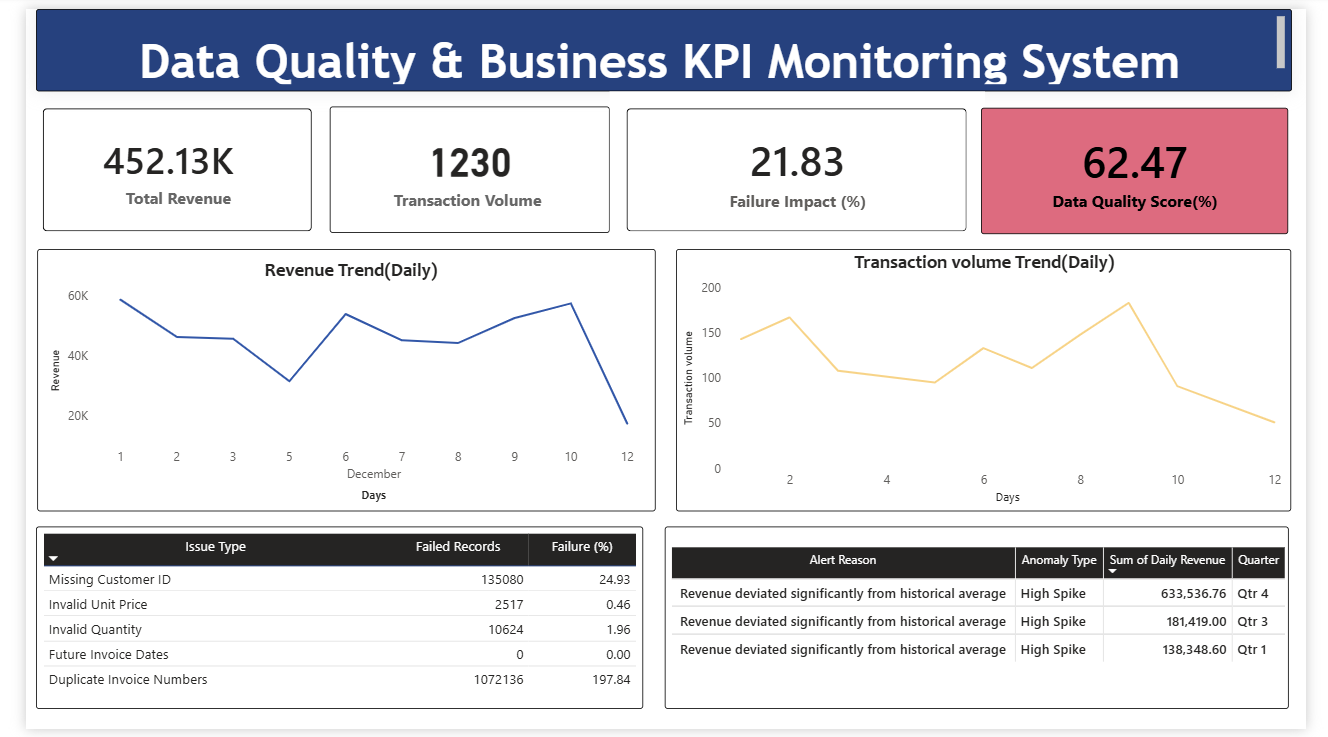

What the dashboard file says about the page in this screenshot:
{"tool":"powerbi","page":{"name":"Page 1","canvas":[1280,720],"ordinal":0},"visuals":[{"type":"card","fields":{"Values":["Sum(quick kpi check 8 2.transaction_volume)"]},"box":[303.8,97.5,280,126.2],"z":0},{"type":"cardVisual","fields":{"Data":["Sum(quick kpi check 8 2.revenue)"]},"box":[0,82.5,303.8,157.5],"z":1000},{"type":"textbox","box":[10,0,1256.2,82.5],"z":2000},{"type":"cardVisual","fields":{"Data":["Sum(quick kpi check 8 2.failure_rate)"]},"box":[583.8,82.5,375,157.5],"z":3000},{"type":"lineChart","title":"Revenue Trend(Daily)","fields":{"Y":["Sum(quick kpi check 8 2.revenue)"],"Category":["quick kpi check 8 2.date.Variation.Date Hierarchy.Month","quick kpi check 8 2.date.Variation.Date Hierarchy.Day"]},"box":[11.2,240,618.8,262.5],"z":5000},{"type":"lineChart","title":"Transaction volume Trend(Daily)","fields":{"Category":["quick kpi check 8 2.date.Variation.Date Hierarchy.Day"],"Y":["Sum(quick kpi check 8 2.transaction_volume)"]},"box":[650,240,615,262.5],"z":6000},{"type":"tableEx","fields":{"Values":["7 review data quality product.check_name","Sum(7 review data quality product.failed_records)","Sum(7 review data quality product.failure_percentage)"]},"box":[10,517.5,607.5,182.5],"z":7000},{"type":"tableEx","fields":{"Values":["revenue_anomaly_alert_log.Alert Reason","revenue_anomaly_alert_log.Anomaly Type","Sum(revenue_anomaly_alert_log.Daily Revenue)","revenue_anomaly_alert_log.Date.Variation.Date Hierarchy.Quarter"]},"box":[638.8,517.5,623.8,182.5],"z":7001},{"type":"card","fields":{"Values":["Sum(9 1 data quality score.data_quality_score)"]},"box":[955,98.8,307.5,126.2],"z":7002}]}

Visuals, with their boxes in screenshot pixels (x1, y1, x2, y2), scaled from the page's 1280x720 canvas onto the 1328x737 screenshot:
card - Sum(quick kpi check 8 2.transaction_volume): box(315, 100, 606, 229)
cardVisual - Sum(quick kpi check 8 2.revenue): box(0, 84, 315, 246)
textbox: box(10, 0, 1314, 84)
cardVisual - Sum(quick kpi check 8 2.failure_rate): box(606, 84, 995, 246)
"Revenue Trend(Daily)" lineChart: box(12, 246, 654, 514)
"Transaction volume Trend(Daily)" lineChart: box(674, 246, 1312, 514)
tableEx - 7 review data quality product.check_name x Sum(7 review data quality product.failed_records): box(10, 530, 641, 717)
tableEx - revenue_anomaly_alert_log.Alert Reason x revenue_anomaly_alert_log.Anomaly Type: box(663, 530, 1310, 717)
card - Sum(9 1 data quality score.data_quality_score): box(991, 101, 1310, 230)
